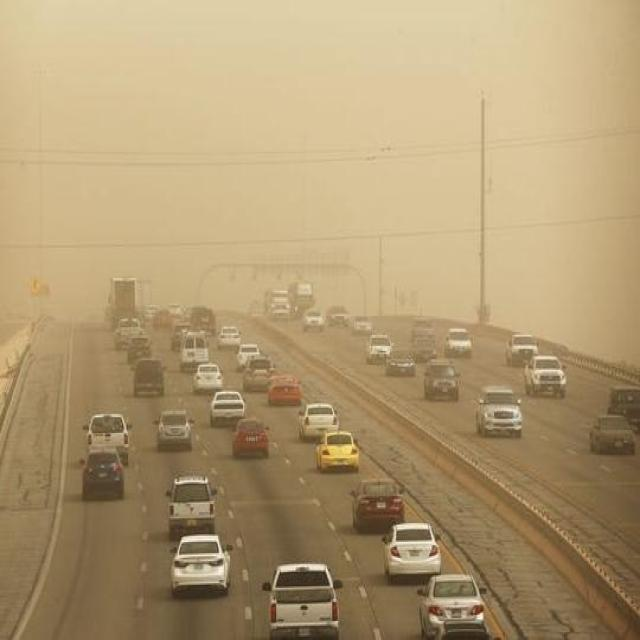Car: (417, 572, 490, 639), (170, 532, 232, 598), (382, 522, 442, 584), (167, 472, 219, 539), (351, 479, 404, 532), (84, 413, 131, 465), (475, 387, 522, 438), (81, 449, 126, 501), (589, 413, 636, 457), (524, 354, 568, 398), (315, 430, 360, 472), (155, 409, 194, 453), (605, 383, 640, 431), (230, 417, 270, 457), (298, 402, 338, 442), (423, 360, 461, 401), (208, 391, 246, 428), (132, 358, 165, 398), (243, 358, 277, 393), (266, 374, 302, 406), (505, 333, 537, 367), (192, 363, 225, 395), (115, 317, 144, 350), (444, 328, 473, 359), (410, 332, 438, 364), (385, 350, 416, 378), (366, 333, 393, 364), (127, 334, 153, 364), (235, 342, 262, 370), (170, 324, 194, 352), (409, 316, 434, 342), (217, 325, 242, 350), (302, 308, 326, 332), (326, 305, 349, 328), (352, 316, 373, 336), (152, 309, 172, 330), (272, 303, 290, 319), (168, 302, 184, 319), (144, 304, 159, 322)
Truck: (260, 561, 342, 640), (290, 279, 314, 315)
Van: (109, 276, 137, 326), (180, 332, 210, 372)
